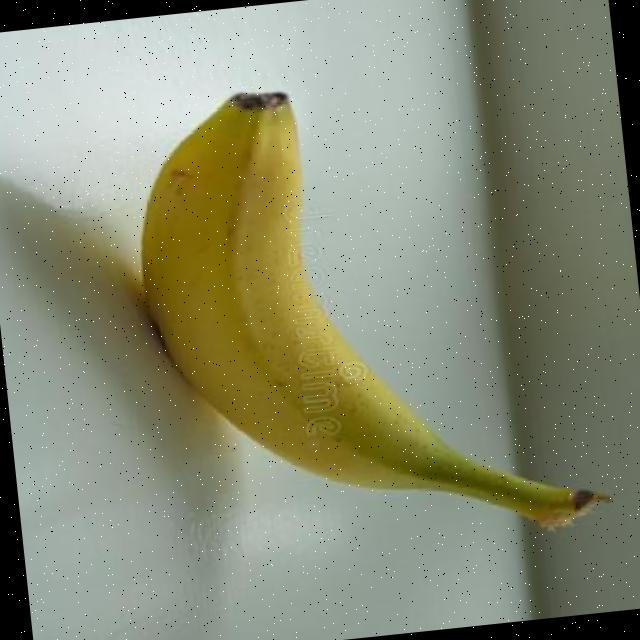banana: (138, 89, 591, 529)
